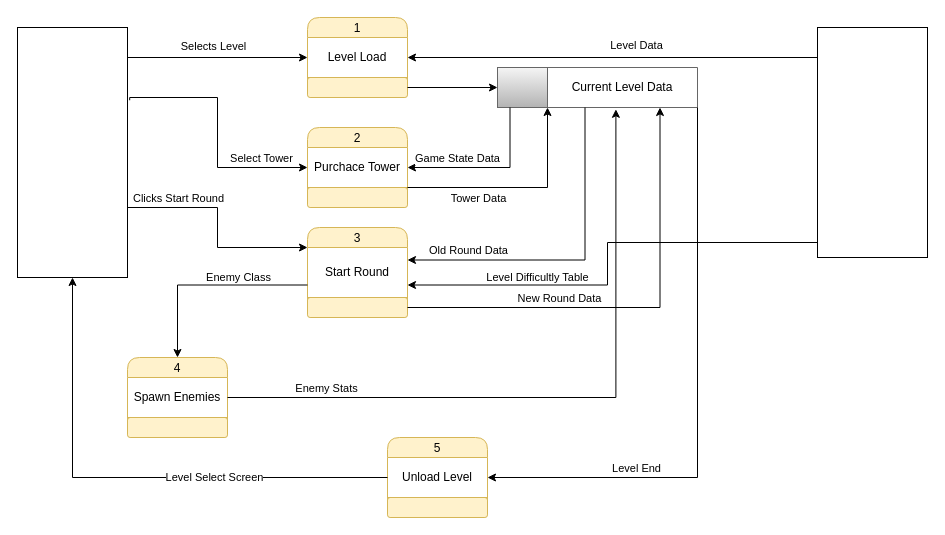
Some shapes in this 945 by 535 pixel diagram are drawn without their labels. Here are the shapes that lost their labels. From the top down, the centre of each, then its label:
At point (72, 152): "Player".
At point (872, 142): "Game Save Data".
